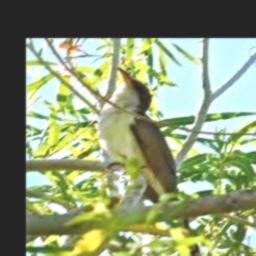Cuckoo: (98, 67, 204, 256)
